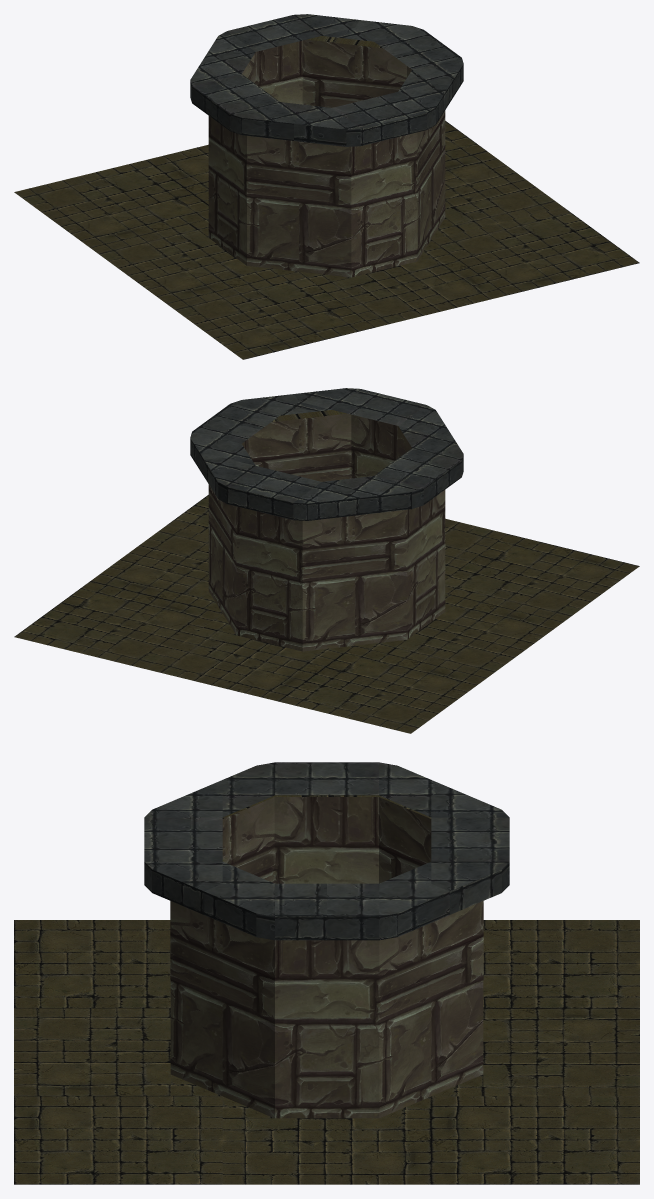
The model's file is large_pillar_tile.FBX.
3 renders of one model, top to bottom at view 1: azimuth 30°, elevation 25°; view 2: azimuth 150°, elevation 25°; view 3: azimuth 270°, elevation 25°, orthographic. The views are drawn at different scales.
Visible parts, largest first — view 1: floor_tile004; view 2: floor_tile004; view 3: floor_tile004.
Boxes of the visible parts, x1,y1,x2,y2 form: floor_tile004: [14, 14, 639, 359]; floor_tile004: [14, 388, 639, 733]; floor_tile004: [14, 762, 639, 1184].
Bounding box in the file's own units: 120 × 45 × 120.
1 material, 1 textured.
